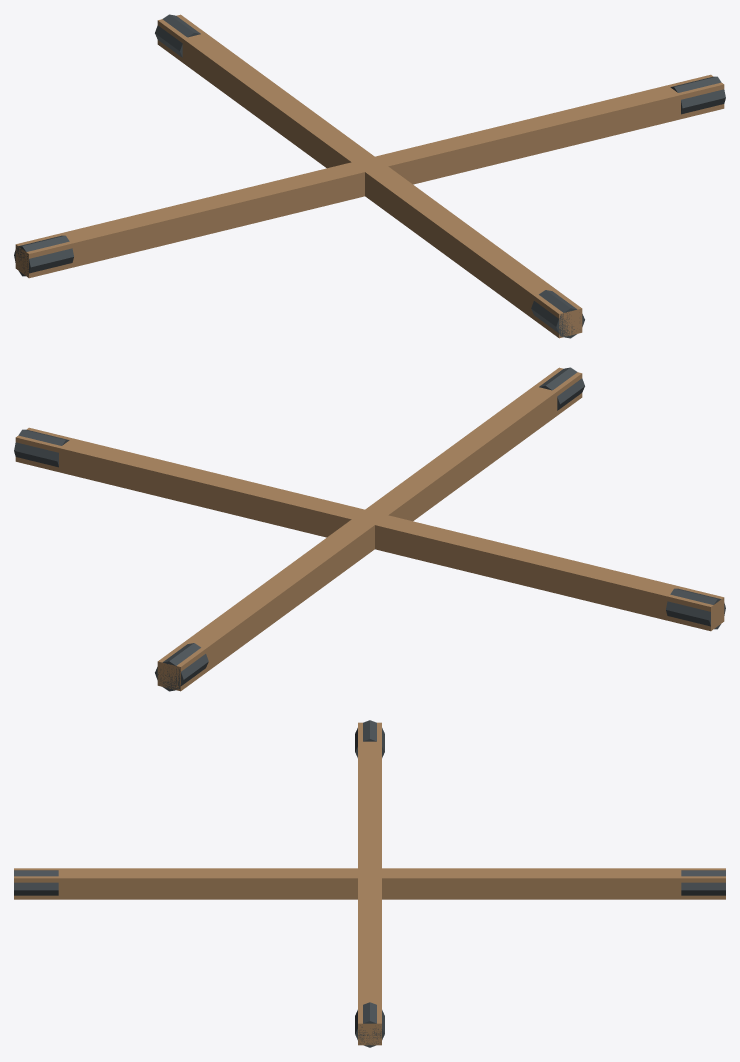
File: Capstan_Bars.glb
3 views of the same model, one above another, from view 1: azimuth 30°, elevation 25°; view 2: azimuth 150°, elevation 25°; view 3: azimuth 270°, elevation 25° (orthographic). The views are drawn at different scales.
Parts seen in each view (by area): view 1: Capstan_Bars; view 2: Capstan_Bars; view 3: Capstan_Bars.
Part boxes in pixels (x1,y1,x2,y2): Capstan_Bars: (14, 14, 725, 338); Capstan_Bars: (14, 367, 725, 691); Capstan_Bars: (14, 720, 725, 1047).
Bounding box in the file's own units: 4.8 × 0.2 × 4.8.
